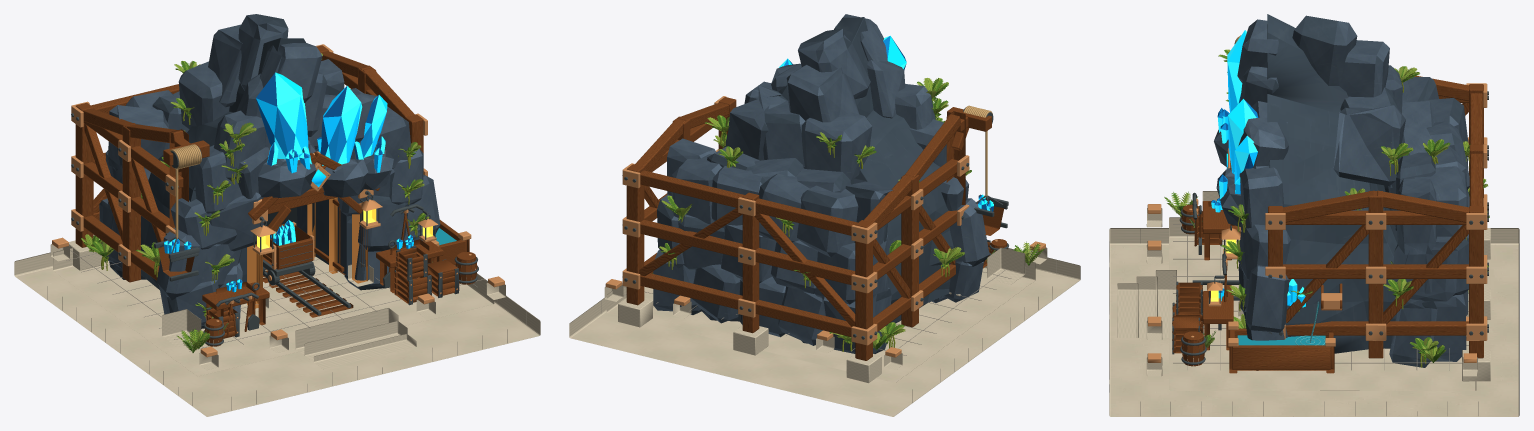
File: vein-lod0-e2ed4d91af44.glb
The picture shows the model from 3 angles, left to right: view 1: azimuth 30°, elevation 25°; view 2: azimuth 150°, elevation 25°; view 3: azimuth 270°, elevation 25°; orthographic projection. The views are drawn at different scales.
Visible parts, largest first — view 1: GEO-export-MAT-vein-ivory.018, GEO-export-MAT-vein-slate-1.018, GEO-export-MAT-vein-wood-edge.018, GEO-export-MAT-vein-wood.018, GEO-export-MAT-vein-slate-0.018, GEO-export-MAT-vein-iron.018, GEO-export-MAT-vein-copper.018, GEO-export-MAT-vein-slate-2.018, GEO-export-MAT-vein-crystal-2.018, GEO-export-MAT-vein-crystal-1.018, GEO-export-MAT-vein-slate-3.018, GEO-export-MAT-vein-v18-tunnel-warm-wood.012 (+8 smaller); view 2: GEO-export-MAT-vein-slate-1.018, GEO-export-MAT-vein-ivory.018, GEO-export-MAT-vein-wood-edge.018, GEO-export-MAT-vein-wood.018, GEO-export-MAT-vein-slate-0.018, GEO-export-MAT-vein-copper.018, GEO-export-MAT-vein-slate-2.018, GEO-export-MAT-vein-fern-leaf.018, GEO-export-MAT-vein-fern-tip.018, GEO-export-MAT-vein-slate-3.018, GEO-export-MAT-vein-fern-lime.018, GEO-export-MAT-vein-iron.018 (+2 smaller); view 3: GEO-export-MAT-vein-ivory.018, GEO-export-MAT-vein-slate-1.018, GEO-export-MAT-vein-slate-0.018, GEO-export-MAT-vein-wood-edge.018, GEO-export-MAT-vein-wood.018, GEO-export-MAT-vein-copper.018, GEO-export-MAT-vein-slate-2.018, GEO-export-MAT-vein-fern-leaf.018, GEO-export-MAT-vein-slate-3.018, GEO-export-MAT-vein-iron.018, GEO-export-MAT-vein-crystal-1.018, GEO-export-MAT-vein-crystal-2.018 (+5 smaller).
Boxes of the visible parts, bbox=[...] form: GEO-export-MAT-vein-ivory.018: bbox=[14, 240, 540, 416]; GEO-export-MAT-vein-slate-1.018: bbox=[102, 14, 440, 322]; GEO-export-MAT-vein-wood-edge.018: bbox=[83, 51, 477, 346]; GEO-export-MAT-vein-wood.018: bbox=[75, 45, 475, 332]; GEO-export-MAT-vein-slate-0.018: bbox=[110, 14, 434, 328]; GEO-export-MAT-vein-iron.018: bbox=[71, 113, 478, 345]; GEO-export-MAT-vein-copper.018: bbox=[52, 44, 504, 357]; GEO-export-MAT-vein-slate-2.018: bbox=[99, 30, 436, 326]; GEO-export-MAT-vein-crystal-2.018: bbox=[164, 73, 411, 286]; GEO-export-MAT-vein-crystal-1.018: bbox=[164, 72, 413, 292]; GEO-export-MAT-vein-slate-3.018: bbox=[99, 23, 439, 289]; GEO-export-MAT-vein-v18-tunnel-warm-wood.012: bbox=[247, 197, 367, 308]; GEO-export-MAT-vein-slate-1.018: bbox=[653, 14, 989, 351]; GEO-export-MAT-vein-ivory.018: bbox=[569, 247, 1080, 416]; GEO-export-MAT-vein-wood-edge.018: bbox=[635, 102, 1007, 336]; GEO-export-MAT-vein-wood.018: bbox=[626, 97, 1006, 360]; GEO-export-MAT-vein-slate-0.018: bbox=[657, 17, 988, 353]; GEO-export-MAT-vein-copper.018: bbox=[605, 96, 1045, 357]; GEO-export-MAT-vein-slate-2.018: bbox=[671, 28, 983, 345]; GEO-export-MAT-vein-fern-leaf.018: bbox=[661, 78, 1044, 350]; GEO-export-MAT-vein-fern-tip.018: bbox=[659, 78, 1039, 346]; GEO-export-MAT-vein-slate-3.018: bbox=[678, 41, 969, 348]; GEO-export-MAT-vein-fern-lime.018: bbox=[652, 78, 1043, 348]; GEO-export-MAT-vein-iron.018: bbox=[622, 107, 1008, 339]; GEO-export-MAT-vein-ivory.018: bbox=[1109, 191, 1519, 416]; GEO-export-MAT-vein-slate-1.018: bbox=[1214, 19, 1469, 361]; GEO-export-MAT-vein-slate-0.018: bbox=[1214, 14, 1469, 367]; GEO-export-MAT-vein-wood-edge.018: bbox=[1172, 76, 1482, 369]; GEO-export-MAT-vein-wood.018: bbox=[1174, 84, 1483, 373]; GEO-export-MAT-vein-copper.018: bbox=[1147, 83, 1487, 362]; GEO-export-MAT-vein-slate-2.018: bbox=[1214, 39, 1466, 360]; GEO-export-MAT-vein-fern-leaf.018: bbox=[1164, 49, 1489, 362]; GEO-export-MAT-vein-slate-3.018: bbox=[1218, 16, 1468, 370]; GEO-export-MAT-vein-iron.018: bbox=[1172, 91, 1488, 364]; GEO-export-MAT-vein-crystal-1.018: bbox=[1214, 30, 1305, 307]; GEO-export-MAT-vein-crystal-2.018: bbox=[1211, 30, 1304, 298].
Size of the model in its own units: 10 by 8.28 by 10.
27 materials, 7 textured.
